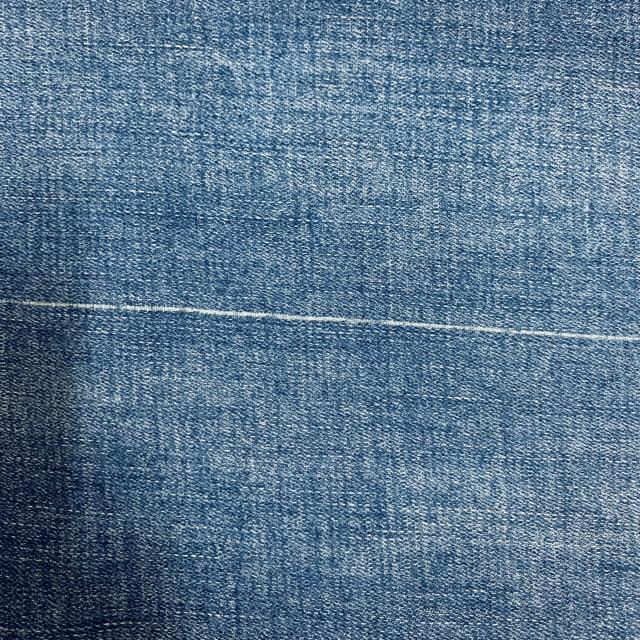Line: (0, 300, 640, 342)
